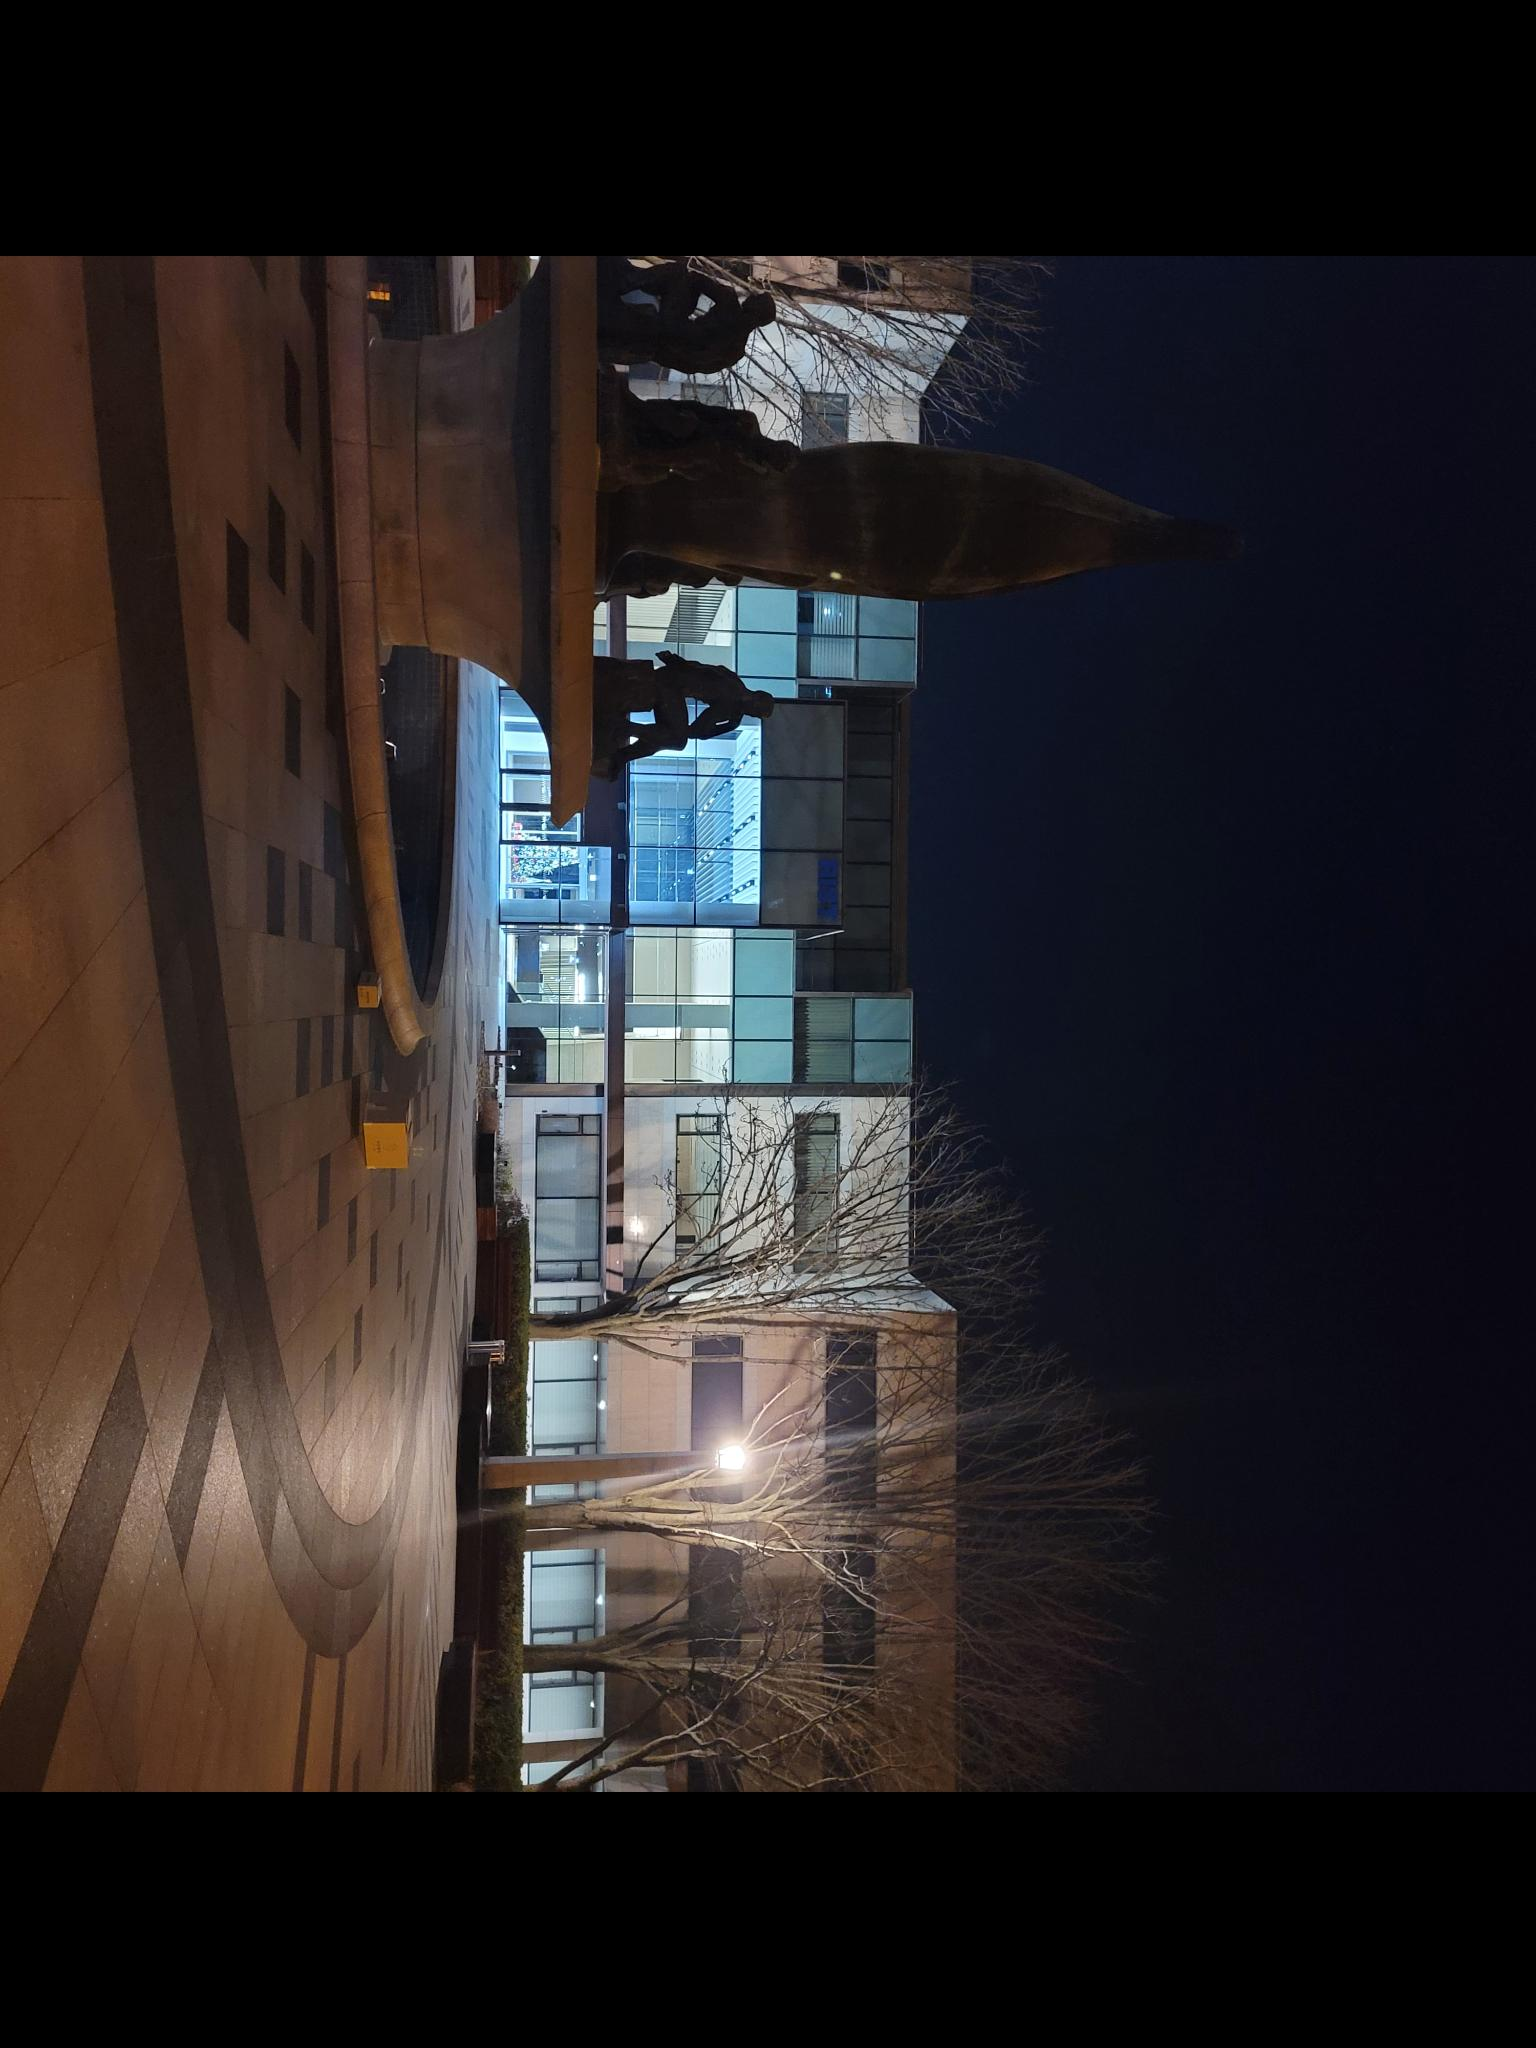Box: (358, 1101, 419, 1180), (349, 974, 392, 1011)
